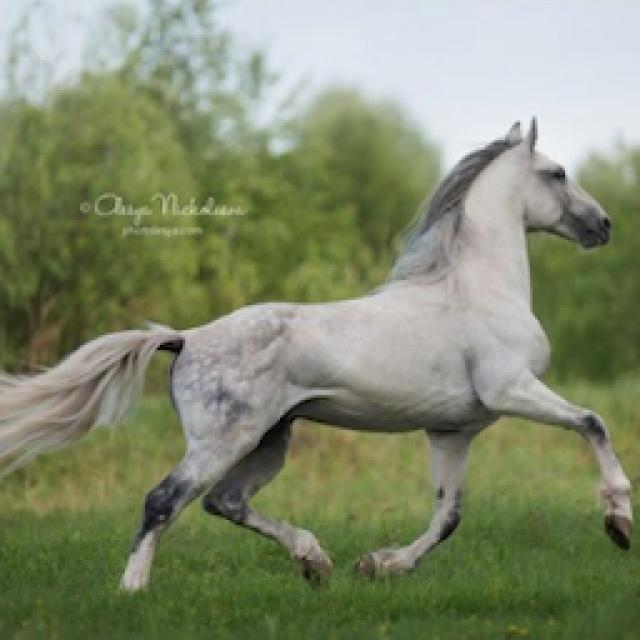Horse: (0, 110, 638, 598)
